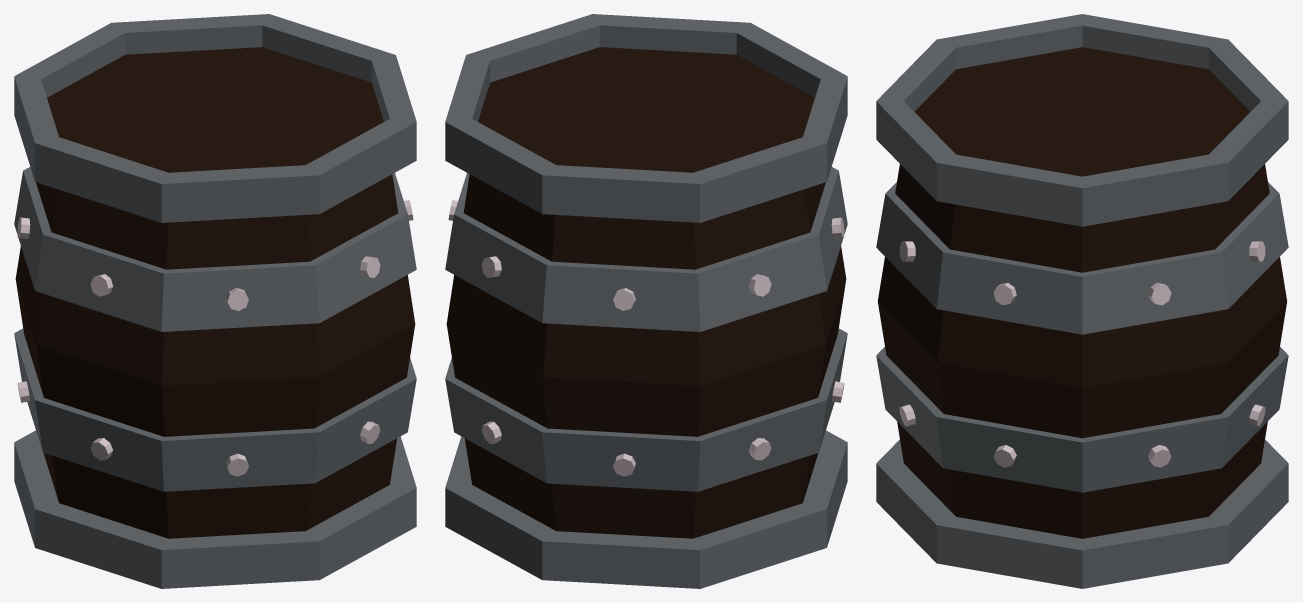
File: Barrel.fbx
3 renders of one model, left to right at view 1: azimuth 30°, elevation 25°; view 2: azimuth 150°, elevation 25°; view 3: azimuth 270°, elevation 25°, orthographic.
Parts seen in each view (by area): view 1: Cylinder, Bolts; view 2: Cylinder, Bolts; view 3: Cylinder, Bolts.
Boxes of the visible parts, x1,y1,x2,y2 form: Cylinder: (14, 14, 416, 588); Bolts: (17, 200, 413, 476); Cylinder: (445, 14, 847, 588); Bolts: (448, 200, 844, 476); Cylinder: (876, 14, 1288, 588); Bolts: (899, 241, 1265, 467).
Size of the model in its own units: 231 by 247 by 231.
